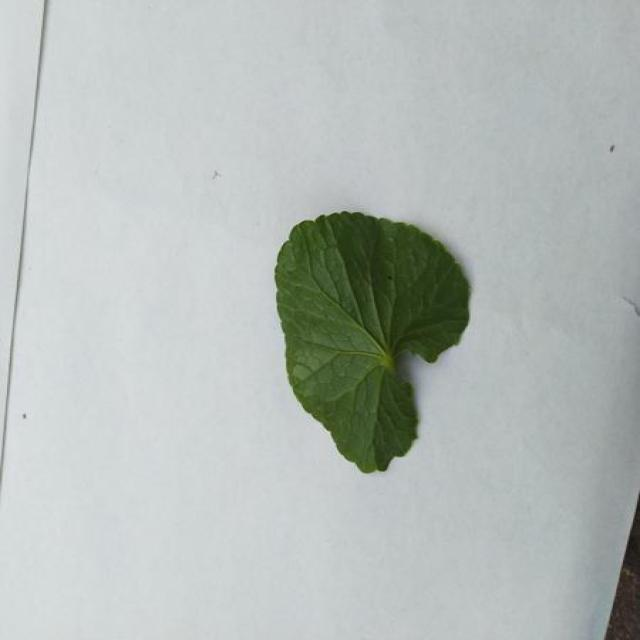Amruthaballi: (275, 212, 470, 472)
defectedAmruthaballi: (275, 212, 470, 472)
